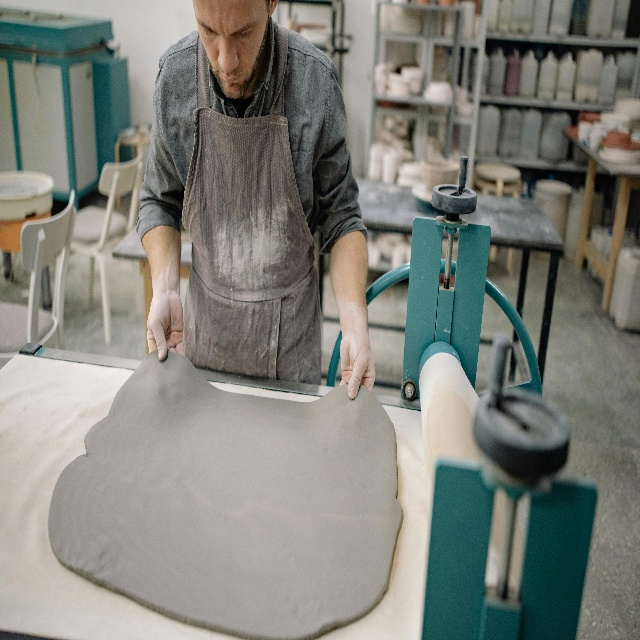Sin_guantes: (147, 288, 185, 360), (340, 325, 375, 400)
